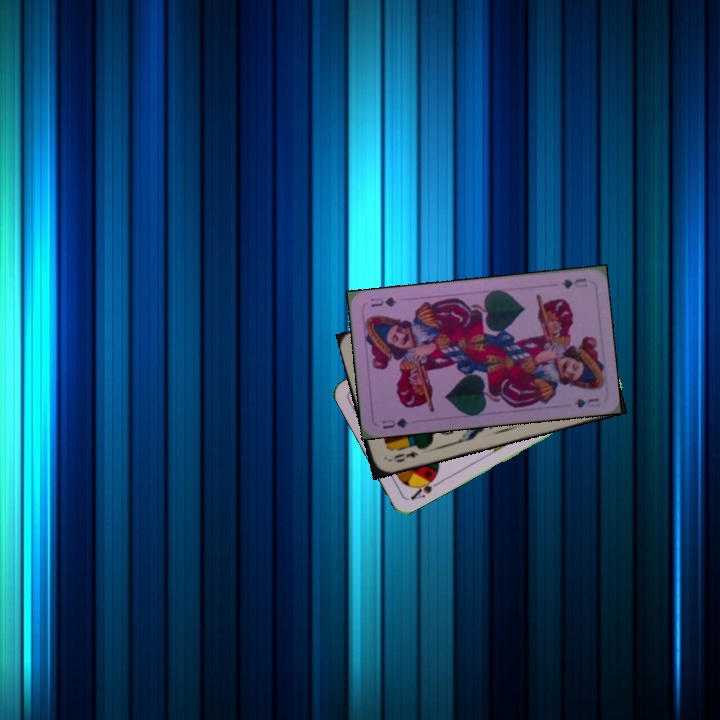EO: (385, 447, 420, 465)
GU: (378, 414, 411, 432), (558, 274, 590, 291)
SA: (407, 472, 443, 503)
